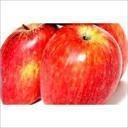apple: (40, 24, 121, 105)
